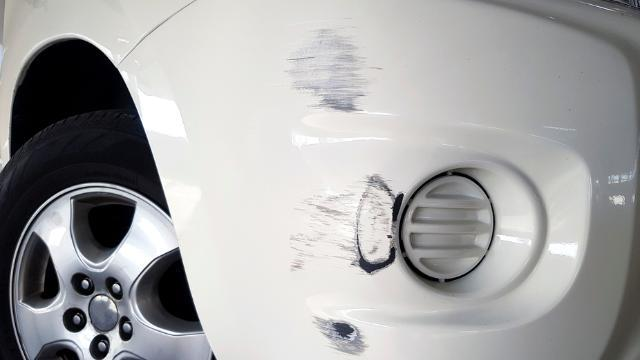Bumper: (209, 13, 615, 360)
